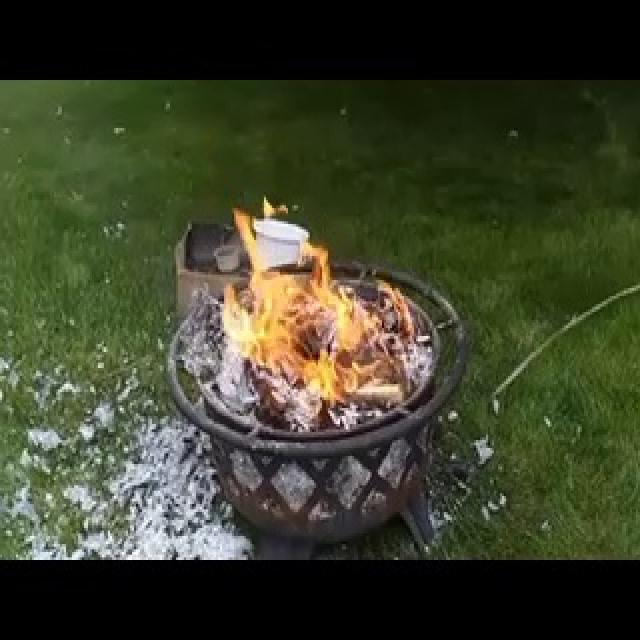fire: (137, 161, 419, 420)
